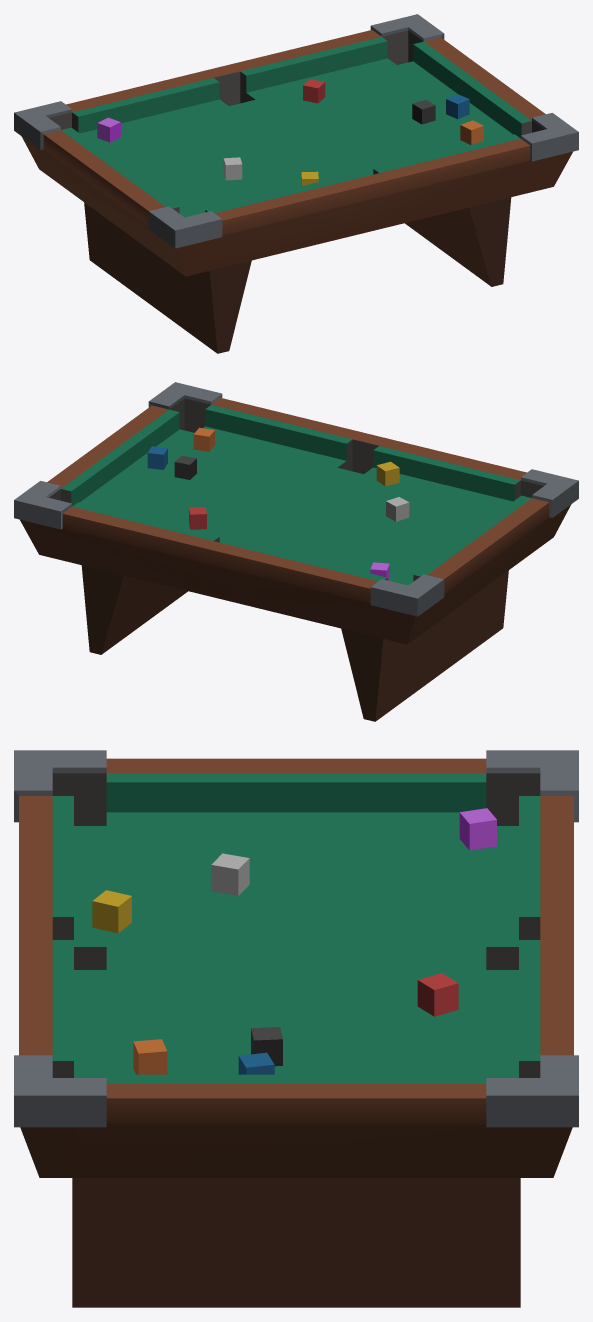
File: AI_Prop_PoolTable.fbx
The picture shows the model from 3 angles, top to bottom: view 1: azimuth 30°, elevation 25°; view 2: azimuth 150°, elevation 25°; view 3: azimuth 270°, elevation 25°; orthographic projection. The views are drawn at different scales.
Parts seen in each view (by area): view 1: AI_Prop_PoolTable; view 2: AI_Prop_PoolTable; view 3: AI_Prop_PoolTable.
Part boxes in pixels (box(x1,y1,x2,y2)): AI_Prop_PoolTable: box(14, 14, 578, 353); AI_Prop_PoolTable: box(14, 382, 578, 721); AI_Prop_PoolTable: box(14, 750, 578, 1307).
Bounding box in the file's own units: 4.45 × 1.58 × 3.07.
